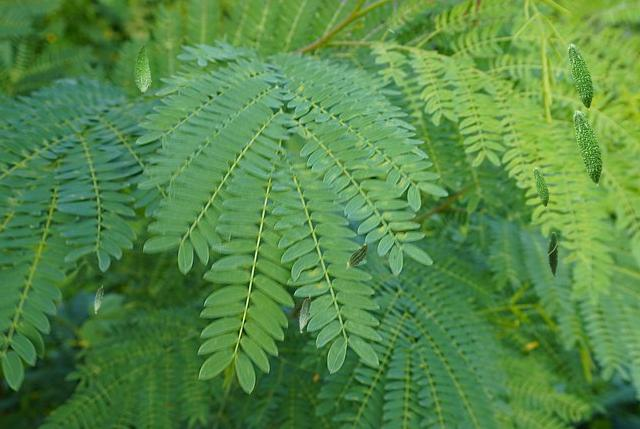ampalaya: (573, 109, 603, 187), (567, 43, 594, 111), (133, 43, 152, 94), (546, 226, 560, 278), (533, 166, 549, 208), (345, 243, 368, 269), (298, 295, 311, 333), (94, 285, 103, 314)
